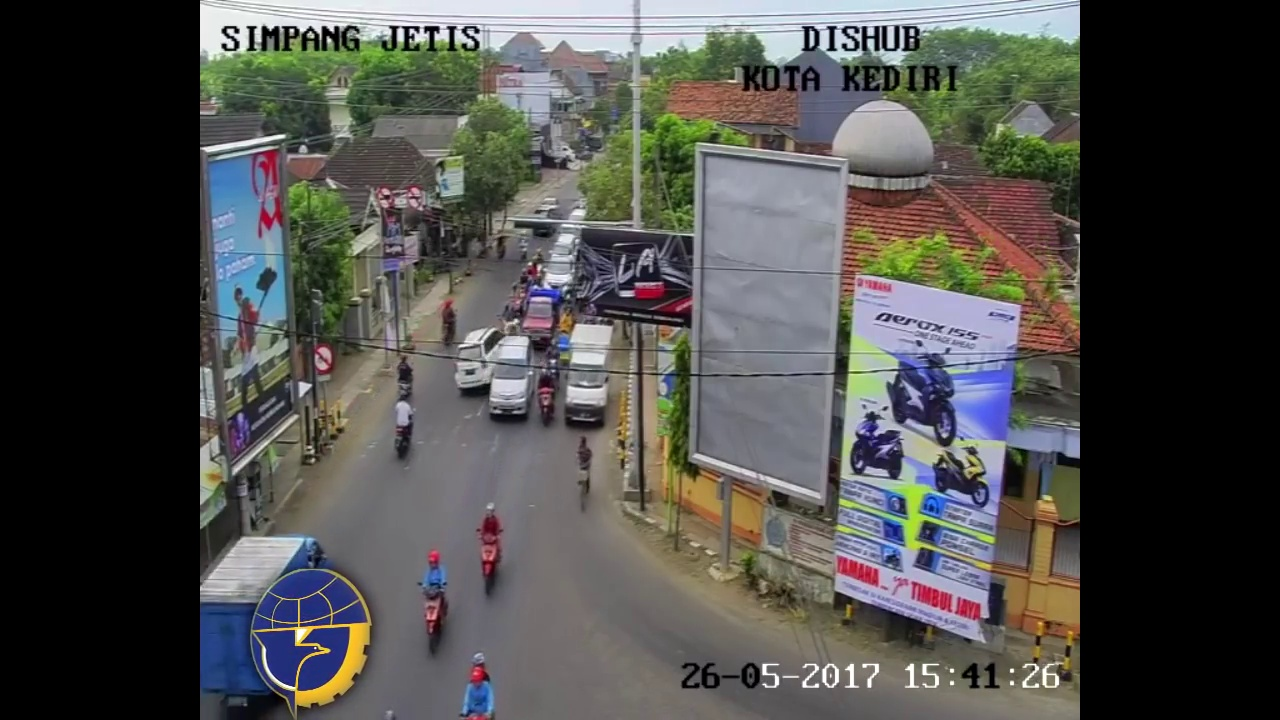car: (201, 529, 327, 716), (487, 335, 536, 423), (567, 324, 607, 428), (455, 328, 506, 391), (522, 297, 555, 345), (544, 253, 573, 297)
motorbike: (421, 551, 449, 654), (475, 501, 505, 594), (393, 400, 415, 465), (537, 367, 554, 430), (397, 355, 415, 400), (443, 300, 456, 348)
